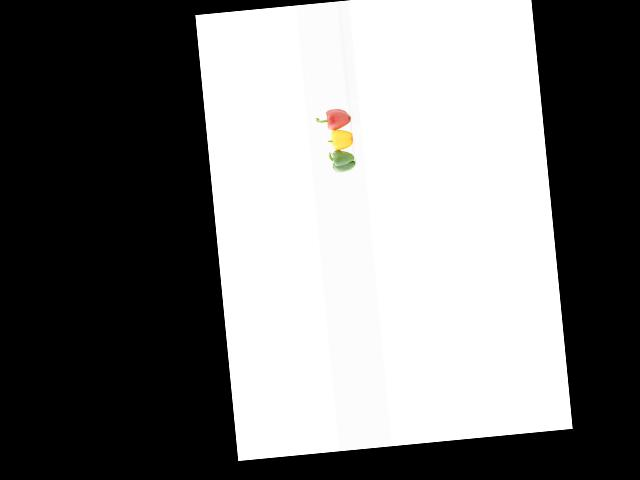bell_pepper: (311, 101, 355, 134)
